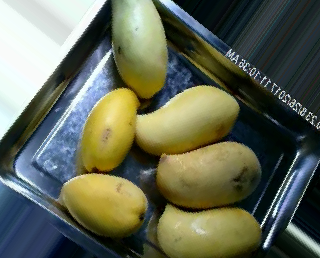Mango: (135, 84, 239, 156), (158, 141, 261, 207), (62, 172, 148, 239), (158, 204, 264, 257), (110, 0, 167, 98), (80, 89, 140, 172)
